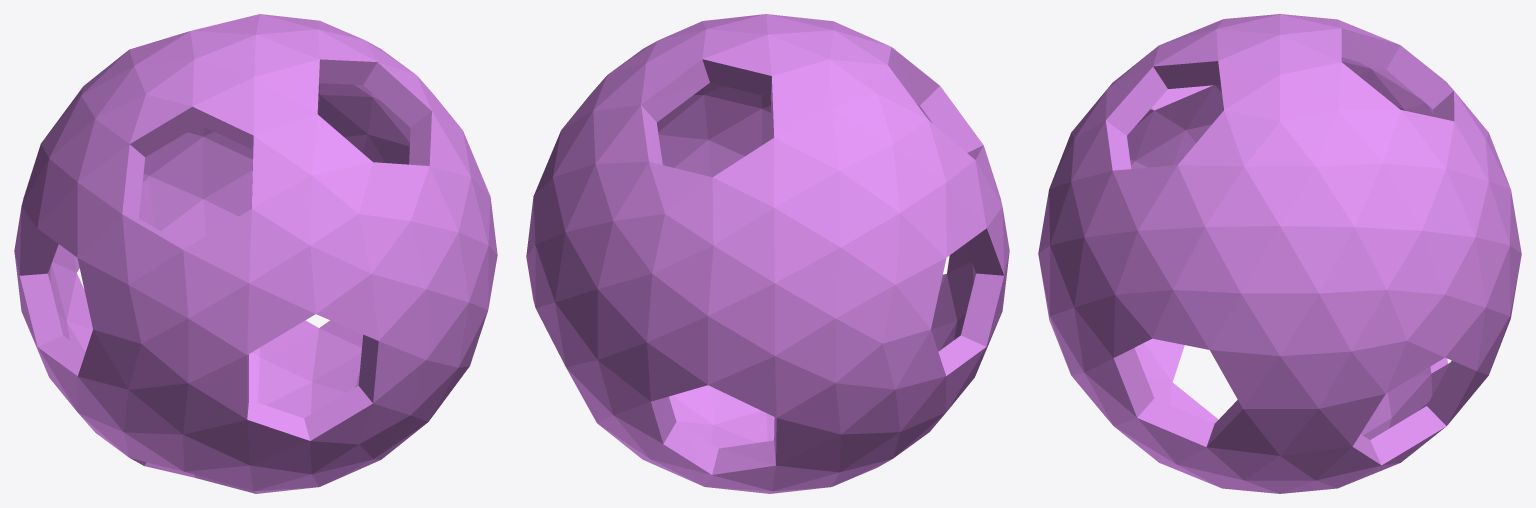
Rendered from Nucleus_V1.fbx.
3 renders of one model, left to right at view 1: azimuth 30°, elevation 25°; view 2: azimuth 150°, elevation 25°; view 3: azimuth 270°, elevation 25°, orthographic.
Parts seen in each view (by area): view 1: Nucleus_v1; view 2: Nucleus_v1; view 3: Nucleus_v1.
Boxes of the visible parts, bbox=[...] form: Nucleus_v1: bbox=[14, 14, 497, 493]; Nucleus_v1: bbox=[526, 14, 1009, 493]; Nucleus_v1: bbox=[1038, 14, 1521, 493].
Size of the model in its own units: 141 by 144 by 144.
